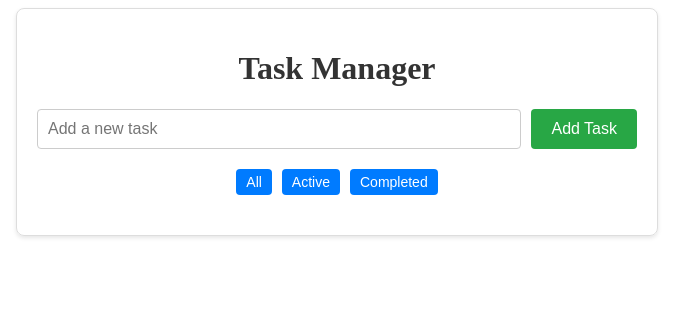
Test: TaskManager › adds a new task
Type "New Task" into the field with placeholder "Add a new task".
click(279, 129); type("New Task")  # box top-left (37, 109), bottom-right (522, 149)
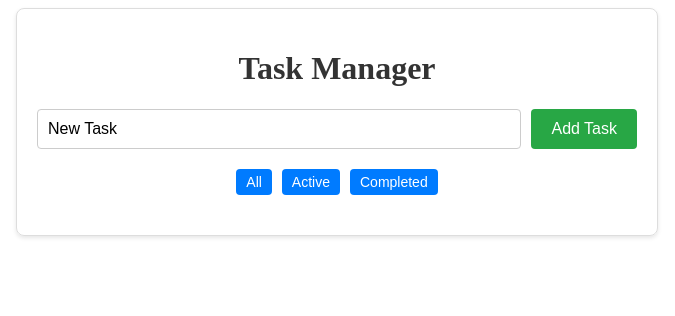
Click the button "Add Task".
click(584, 129)  # box top-left (532, 109), bottom-right (637, 149)
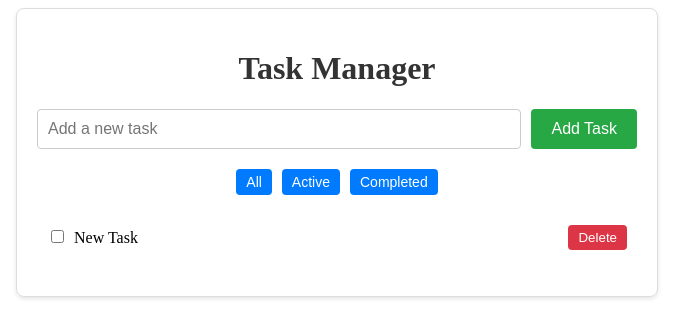
expect the text "New Task" is shown: met, box top-left (47, 227), bottom-right (138, 247)
